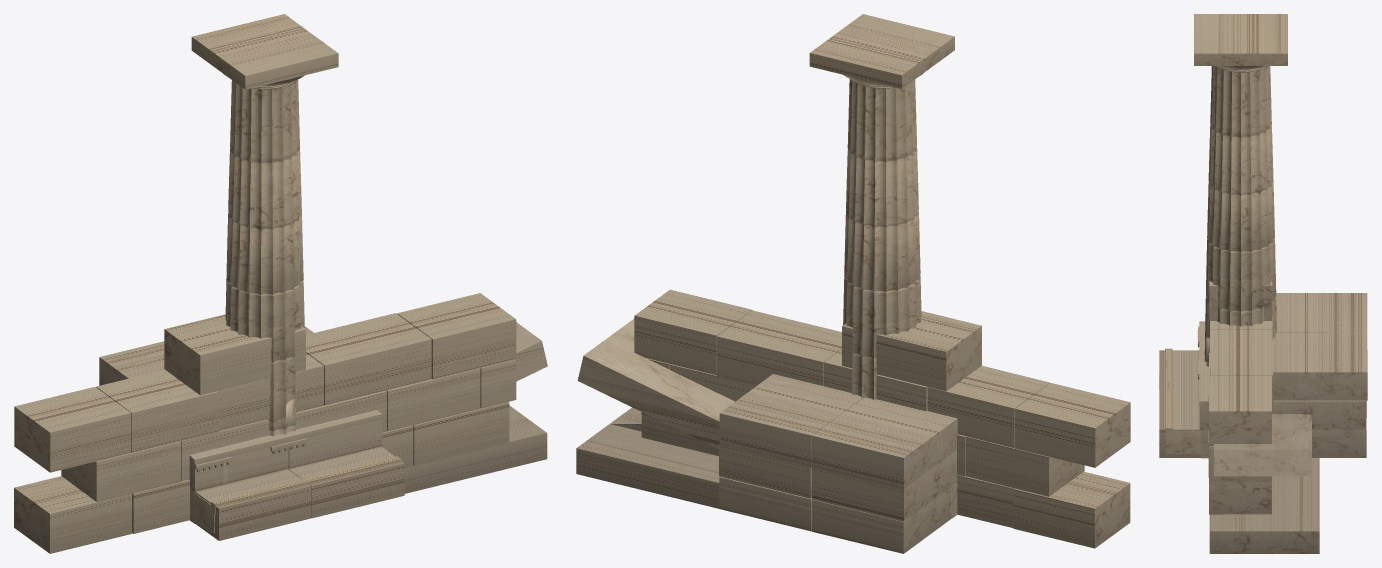
The model's file is temple_kit.glb.
3 views of the same model, side by side, from view 1: azimuth 30°, elevation 25°; view 2: azimuth 150°, elevation 25°; view 3: azimuth 270°, elevation 25° (orthographic). The views are drawn at different scales.
Parts seen in each view (by area): view 1: cella_wall_ruin, column, steps_segment, pediment_corner, column_broken_tall, architrave_block, cornice_block, frieze_block; view 2: cella_wall_ruin, steps_segment, column, pediment_corner, column_broken_tall; view 3: column, steps_segment, cella_wall_ruin, pediment_corner, column_broken_tall, cornice_block, architrave_block, frieze_block.
Boxes of the visible parts, x1,y1,x2,y2 form: cella_wall_ruin: (14, 293, 516, 553); column: (191, 14, 338, 433); steps_segment: (99, 326, 404, 540); pediment_corner: (404, 322, 547, 493); column_broken_tall: (225, 281, 304, 432); architrave_block: (190, 411, 382, 523); cornice_block: (190, 456, 401, 533); frieze_block: (190, 410, 377, 522); cella_wall_ruin: (634, 289, 1130, 548); steps_segment: (719, 374, 957, 553); column: (809, 14, 954, 361); pediment_corner: (576, 319, 811, 531); column_broken_tall: (843, 280, 921, 399); column: (1194, 14, 1287, 363); steps_segment: (1159, 293, 1367, 457); cella_wall_ruin: (1208, 281, 1272, 514); pediment_corner: (1209, 414, 1319, 553); column_broken_tall: (1205, 248, 1276, 344); cornice_block: (1165, 348, 1208, 453); architrave_block: (1197, 321, 1285, 458); frieze_block: (1199, 321, 1275, 456).
Size of the model in its own units: 6.43 by 5.72 by 2.65.
1 material, 1 textured.
